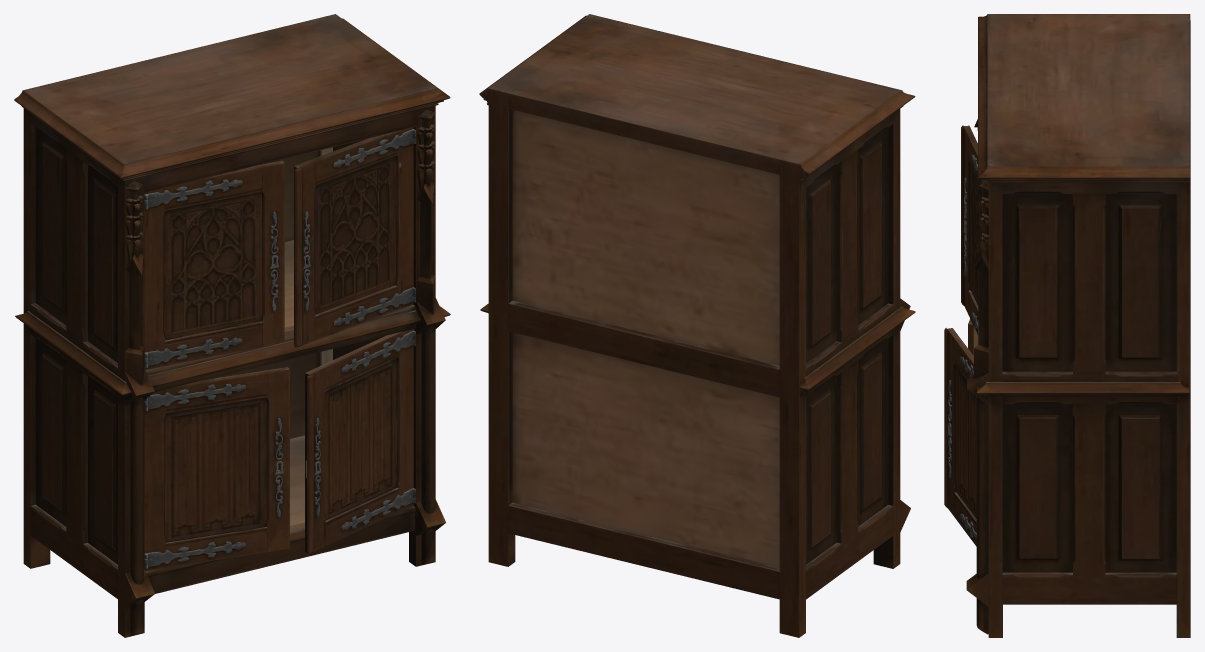
The model's file is GothicCabinet_01.glb.
3 renders of one model, left to right at view 1: azimuth 30°, elevation 25°; view 2: azimuth 150°, elevation 25°; view 3: azimuth 270°, elevation 25°, orthographic.
Parts seen in each view (by area): view 1: GothicCabinet_01_cabinet; view 2: GothicCabinet_01_cabinet; view 3: GothicCabinet_01_cabinet.
Boxes of the visible parts, box(x1,y1,x2,y2) form: GothicCabinet_01_cabinet: box(14, 14, 450, 637); GothicCabinet_01_cabinet: box(479, 14, 915, 637); GothicCabinet_01_cabinet: box(944, 14, 1190, 637).
Size of the model in its own units: 1.72 by 2.36 by 1.12.
Materials: 1 (1 with a texture image).
